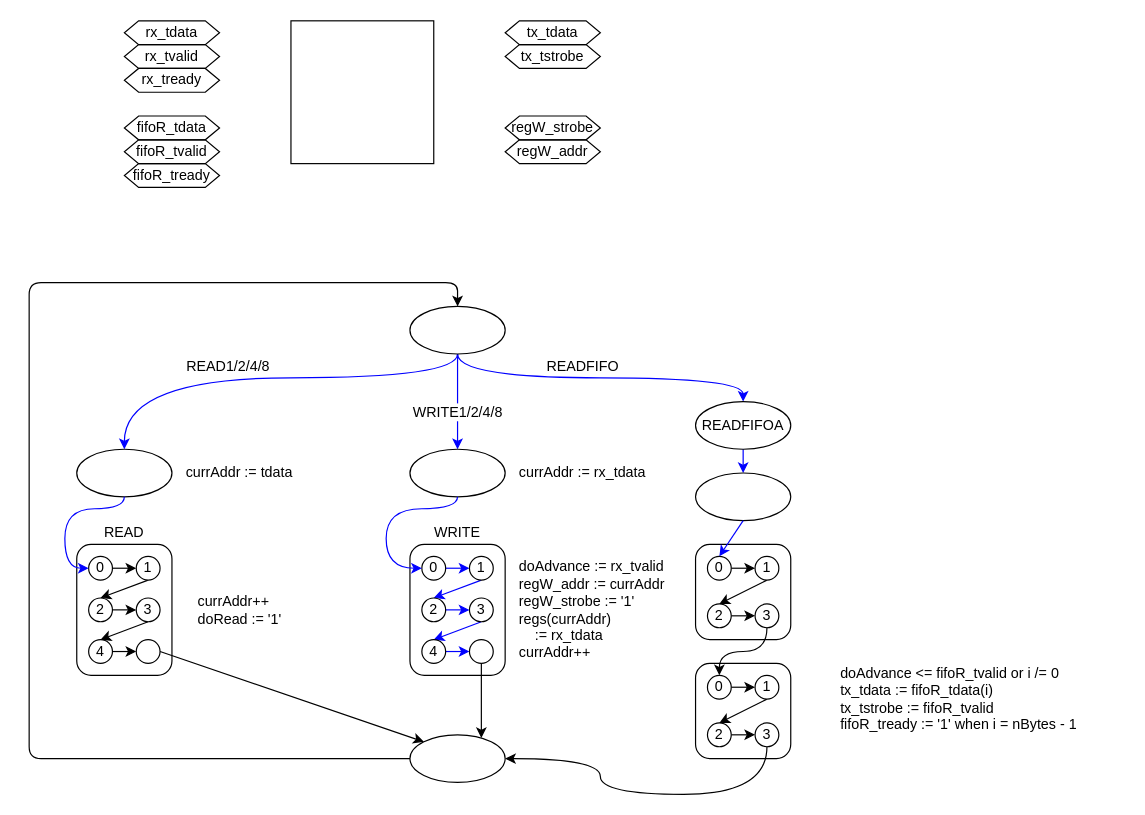
Some shapes in this 1145 by 815 pixel diagram are drawn without their labels. Each missing label, with the centre of its shape:
"CMD0" goes at (x=457, y=329).
"READA" goes at (x=124, y=472).
"READFIFON" goes at (x=742, y=496).
"STATE MACHINE" goes at (x=362, y=92).
"WAIT0" goes at (x=457, y=758).
"WRITEA" goes at (x=457, y=472).
